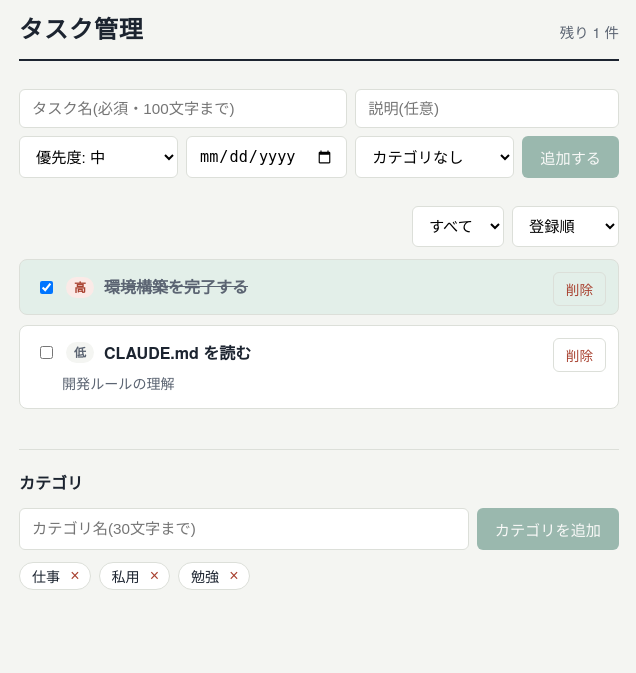
App › タスクを追加するとAPIが呼ばれ一覧が更新される
Expected: the text "環境構築を完了する" is shown, [104,274,248,300]
Step 1. Type "新しいタスク" into the field labelled "タスク名" → (183, 109), box [19,89,347,128]
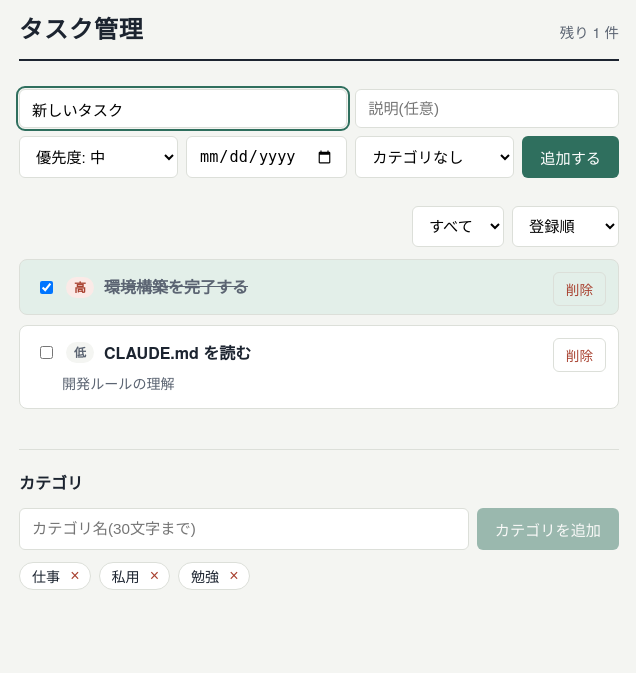
Step 2. Click the button "追加する" → click(571, 157), box [522,136,619,178]
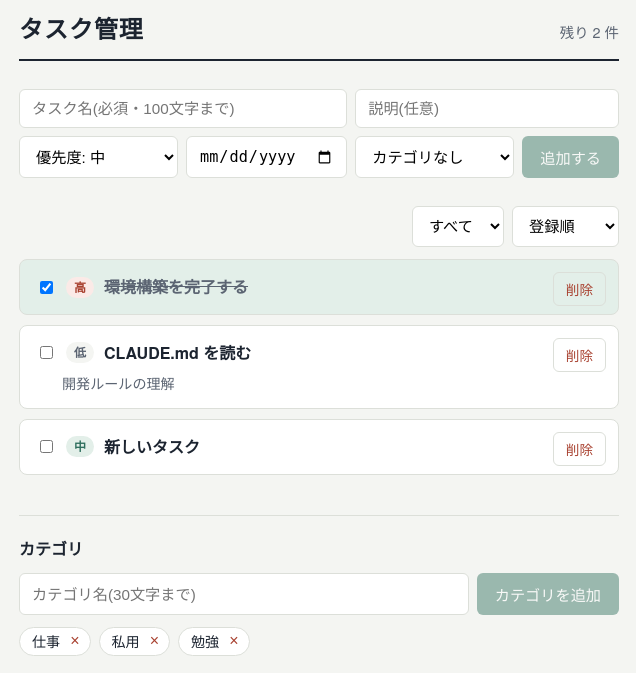
Result: the text "新しいタスク" is shown at [104,434,200,460]
